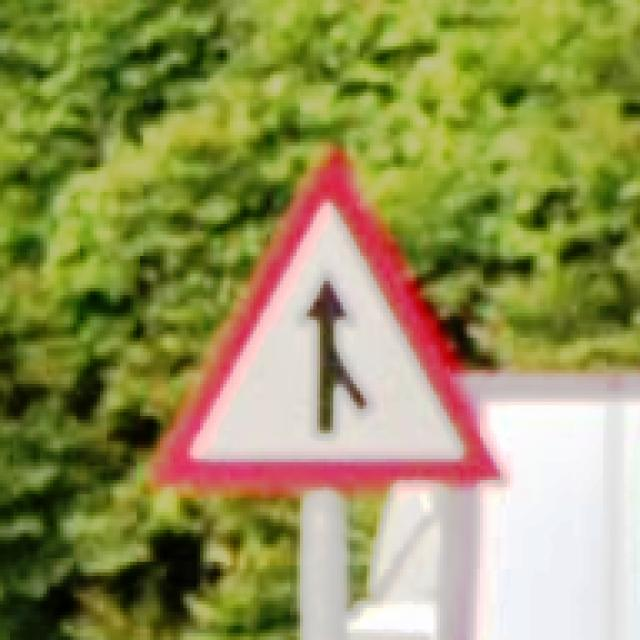rightmerge: (148, 136, 512, 485)
